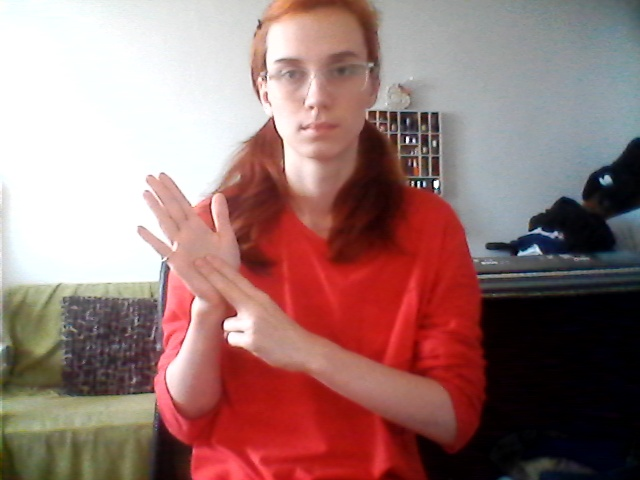n: (117, 165, 299, 371)
